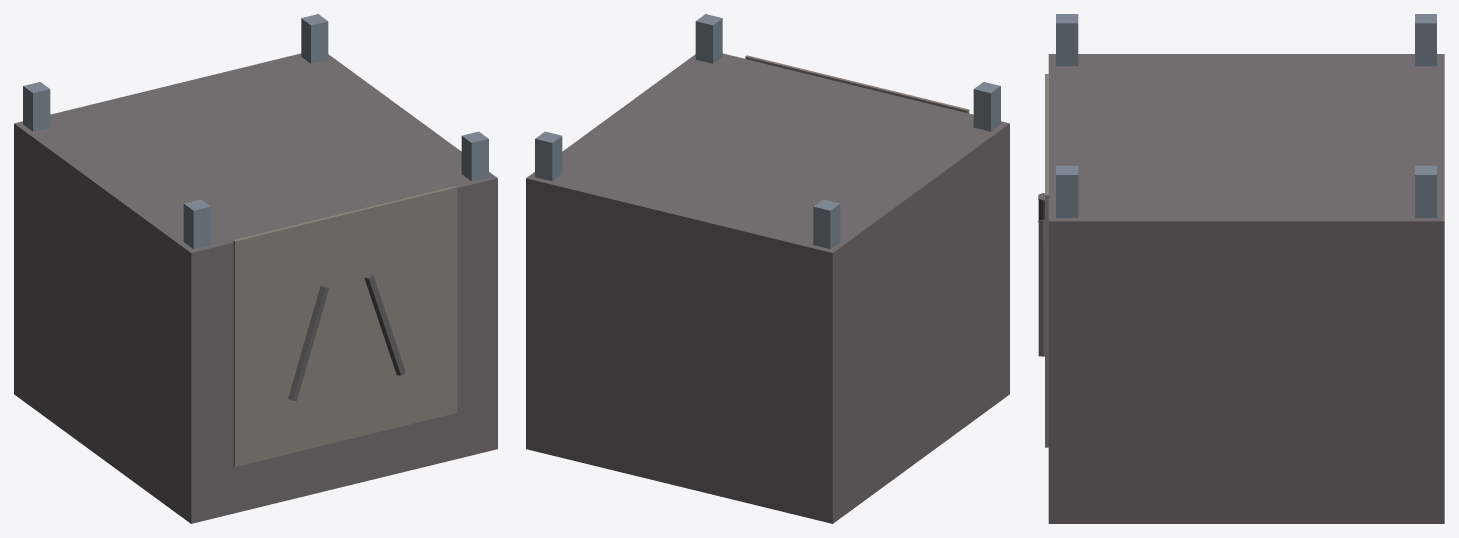
Rendered from geoda_agotada.glb.
3 views of the same model, side by side, from view 1: azimuth 30°, elevation 25°; view 2: azimuth 150°, elevation 25°; view 3: azimuth 270°, elevation 25° (orthographic). The views are drawn at different scales.
Visible parts, largest first — view 1: geoda_agotada; view 2: geoda_agotada; view 3: geoda_agotada.
Boxes of the visible parts, bbox=[...] form: geoda_agotada: bbox=[14, 14, 497, 523]; geoda_agotada: bbox=[526, 14, 1009, 523]; geoda_agotada: bbox=[1038, 14, 1444, 523].
Bounding box in the file's own units: 1.25 × 1.2 × 1.28.
